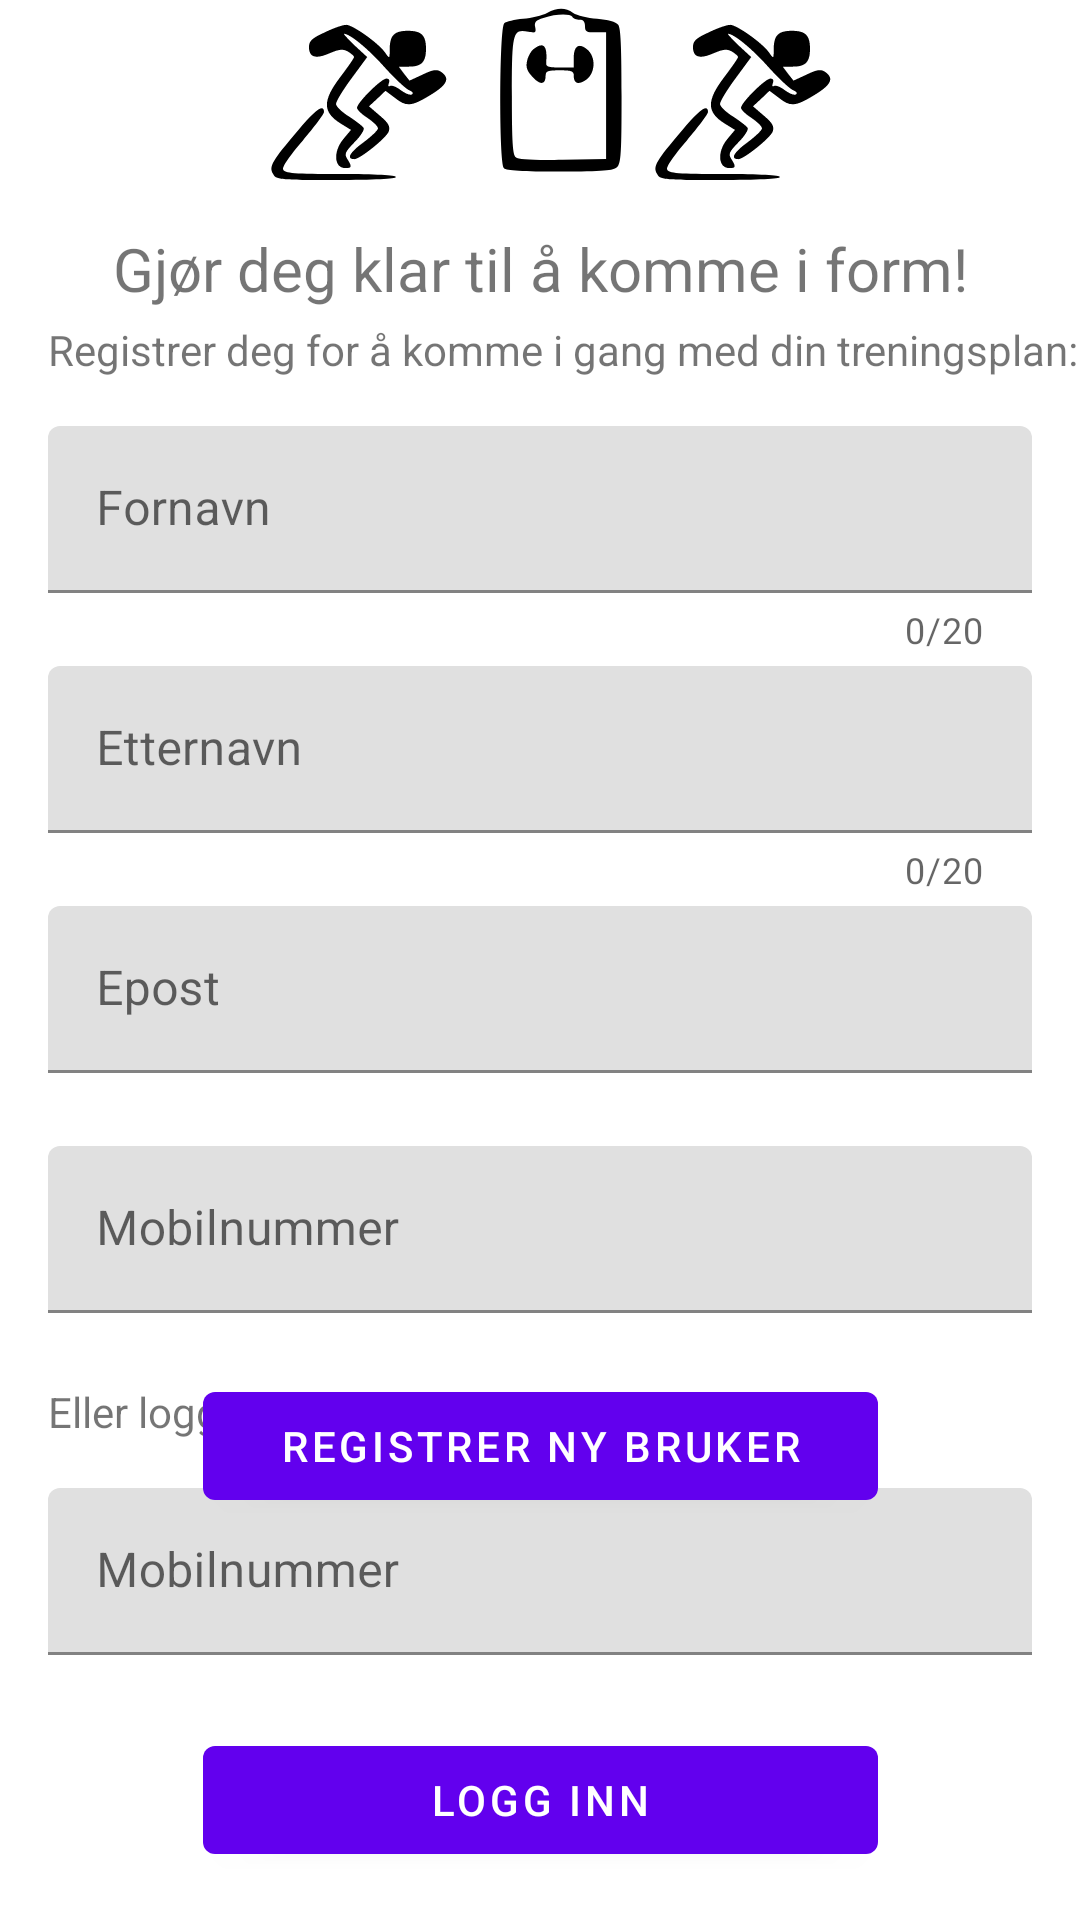

Named icons in this screenshot (1080px×1920px) and their bounding boxes, {"left": x1, "top": y1, "right": x2, "bottom": y2}:
gym plan: {"left": 500, "top": 8, "right": 622, "bottom": 172}
runner: {"left": 271, "top": 24, "right": 447, "bottom": 180}, {"left": 655, "top": 24, "right": 831, "bottom": 180}
